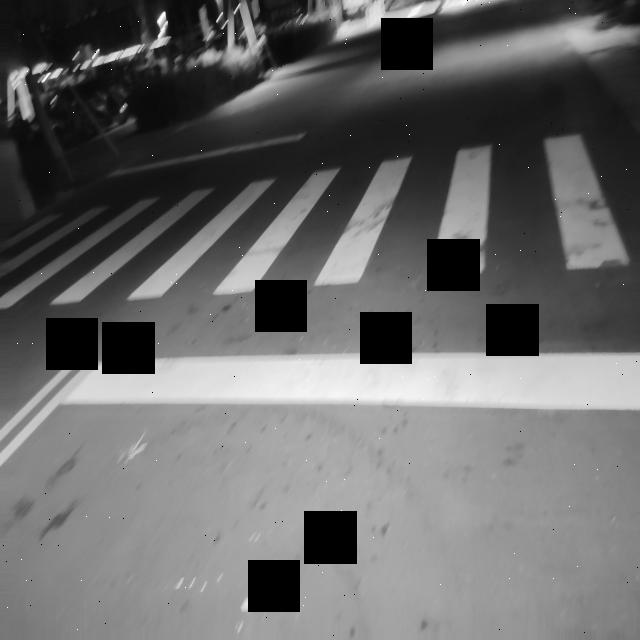zebra crossing: (4, 135, 634, 305)
